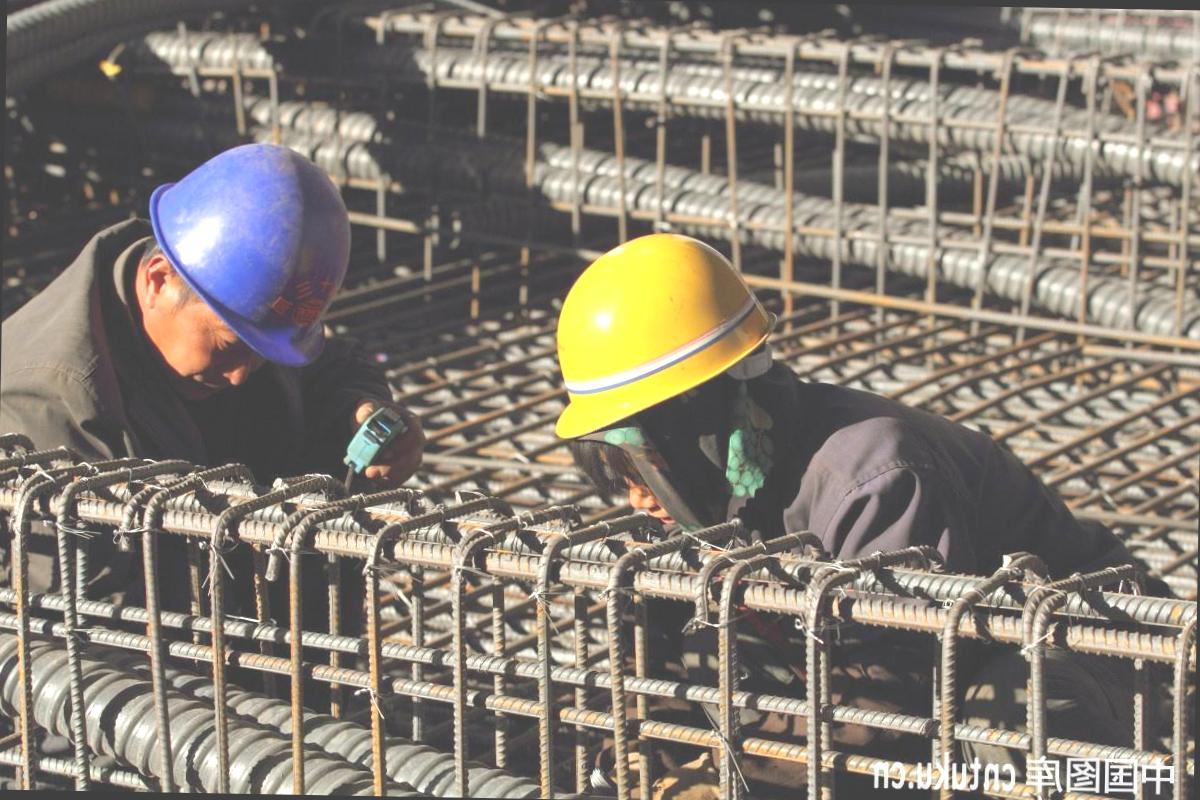helmet: (541, 223, 786, 452), (124, 135, 338, 386)
